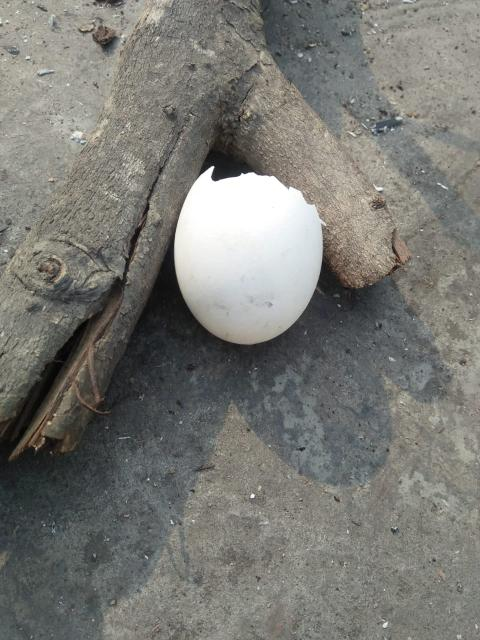Roto: (172, 163, 324, 346)
